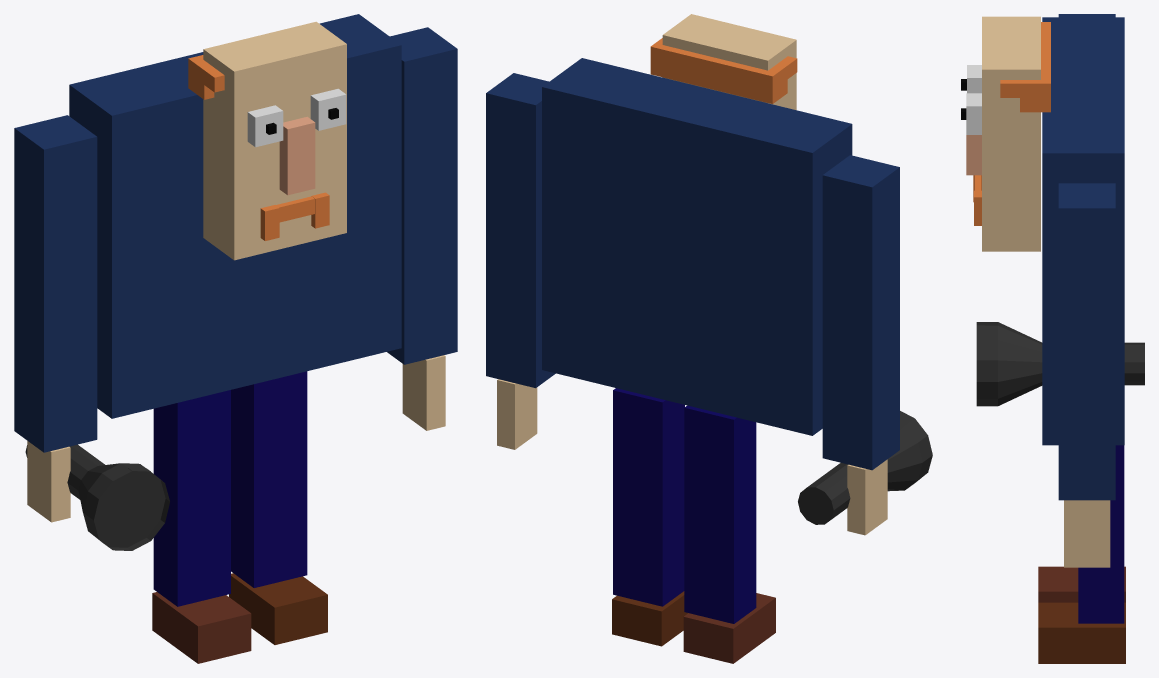
Rendered from Man.glb.
3 renders of one model, left to right at view 1: azimuth 30°, elevation 25°; view 2: azimuth 150°, elevation 25°; view 3: azimuth 270°, elevation 25°, orthographic. The views are drawn at different scales.
Parts seen in each view (by area): view 1: Cube, Cube.003, Cube.001, Cube.002, Cube.005, Cube.004, Cylinder, Cube.007, Cube.006, Cube.009, Cube.008, Cube.010 (+5 smaller); view 2: Cube, Cube.003, Cube.002, Cube.004, Cube.005, Cube.001, Cube.013, Cylinder, Cube.007, Cube.006, Cube.009, Cube.008; view 3: Cube, Cube.002, Cube.001, Cylinder, Cube.006, Cube.005, Cube.008, Cube.013, Cube.007, Cube.011, Cube.010, Cube.012 (+1 smaller).
Boxes of the visible parts, left/top/right/bottom form: Cube: left=69, top=14, right=401, bottom=418; Cube.003: left=14, top=115, right=97, bottom=452; Cube.001: left=203, top=21, right=346, bottom=260; Cube.002: left=387, top=27, right=457, bottom=364; Cube.005: left=231, top=371, right=307, bottom=587; Cube.004: left=153, top=390, right=230, bottom=606; Cylinder: left=25, top=444, right=169, bottom=550; Cube.007: left=152, top=592, right=251, bottom=663; Cube.006: left=229, top=573, right=327, bottom=644; Cube.009: left=27, top=441, right=70, bottom=522; Cube.008: left=402, top=355, right=445, bottom=430; Cube.010: left=279, top=116, right=315, bottom=195; Cube: left=542, top=58, right=852, bottom=435; Cube.003: left=822, top=155, right=899, bottom=470; Cube.002: left=486, top=73, right=555, bottom=388; Cube.004: left=684, top=405, right=756, bottom=623; Cube.005: left=613, top=388, right=684, bottom=606; Cube.001: left=662, top=14, right=796, bottom=110; Cube.013: left=650, top=38, right=797, bottom=103; Cylinder: left=798, top=411, right=932, bottom=524; Cube.007: left=683, top=593, right=775, bottom=663; Cube.006: left=612, top=591, right=688, bottom=646; Cube.009: left=847, top=459, right=887, bottom=535; Cube.008: left=497, top=379, right=537, bottom=449; Cube: left=1042, top=17, right=1124, bottom=445; Cube.002: left=1058, top=183, right=1115, bottom=500; Cube.001: left=982, top=16, right=1040, bottom=251; Cylinder: left=976, top=322, right=1144, bottom=406; Cube.006: left=1038, top=602, right=1125, bottom=663; Cube.005: left=1078, top=445, right=1124, bottom=623; Cube.008: left=1064, top=500, right=1110, bottom=567; Cube.013: left=1000, top=22, right=1050, bottom=112; Cube.007: left=1038, top=566, right=1125, bottom=602; Cube.011: left=966, top=93, right=981, bottom=134; Cube.010: left=966, top=135, right=981, bottom=175; Cube.012: left=967, top=65, right=981, bottom=93.
Size of the model in its own units: 2.86 by 4.04 by 1.14.
